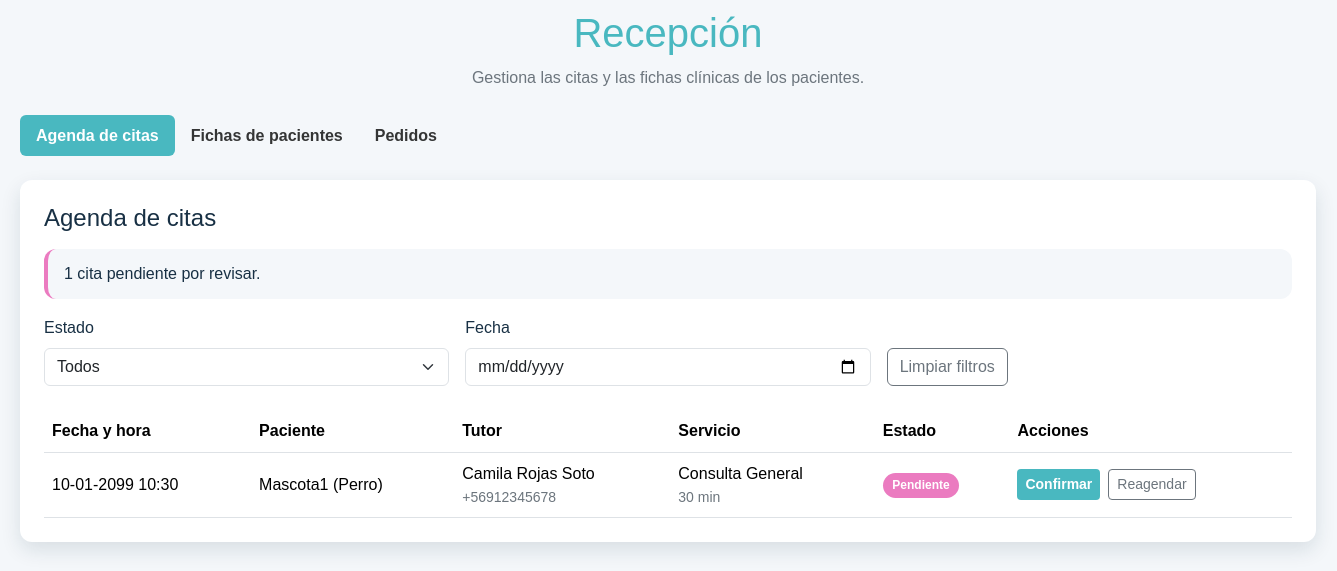
Scenario: AgendaCitas › confirma una cita pendiente en ms-citas y actualiza el estado
Click the button "Confirmar".
click(1059, 485)  # box [1017,469,1100,500]
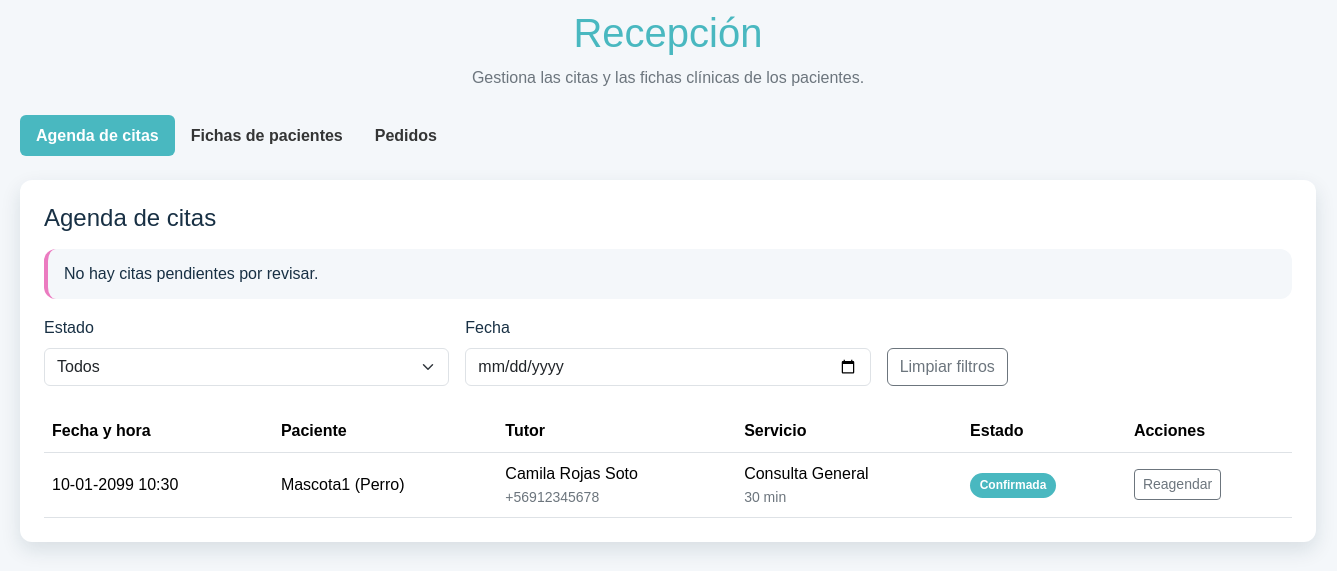
Result: the text "Confirmada" is shown at [970,473,1056,498]
Result: the text "No hay citas pendientes por revisar." is shown at [44,249,1292,299]
